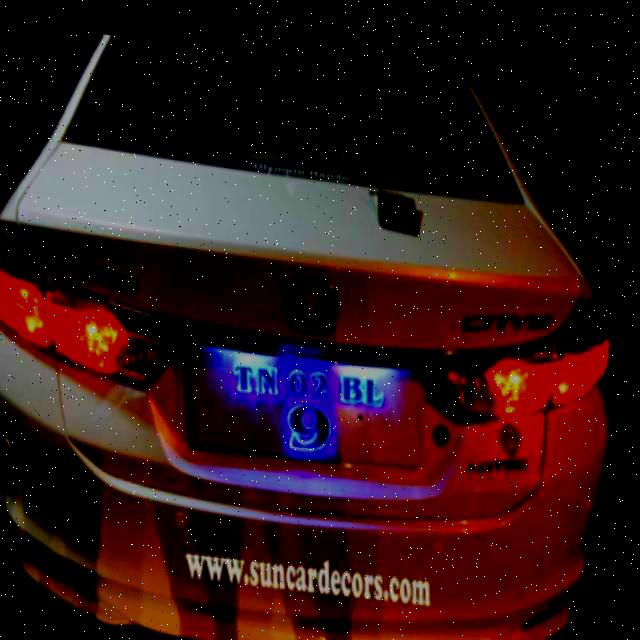license_plate: (223, 326, 396, 456)
